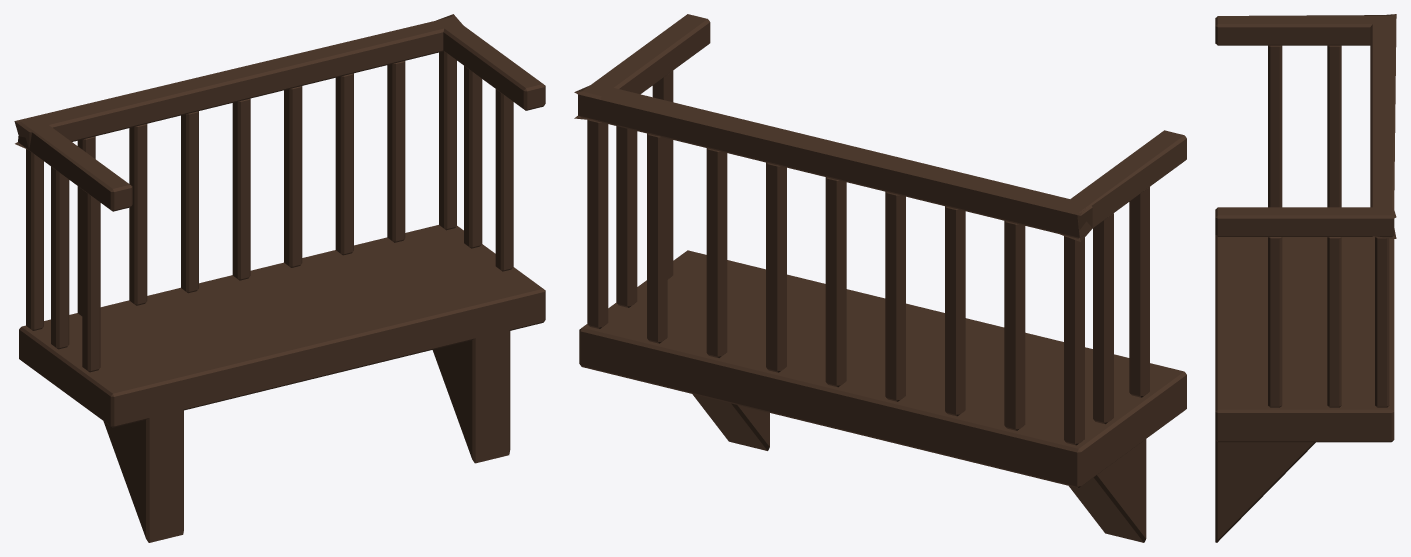
The model's file is balcony_w8.fbx.
The picture shows the model from 3 angles, left to right: view 1: azimuth 30°, elevation 25°; view 2: azimuth 150°, elevation 25°; view 3: azimuth 270°, elevation 25°; orthographic projection. The views are drawn at different scales.
Visible parts, largest first — view 1: balcony_w8; view 2: balcony_w8; view 3: balcony_w8.
Boxes of the visible parts, x1,y1,x2,y2 form: balcony_w8: [14, 14, 545, 542]; balcony_w8: [574, 14, 1186, 542]; balcony_w8: [1215, 14, 1396, 542].
Size of the model in its own units: 808 by 637 by 304.
